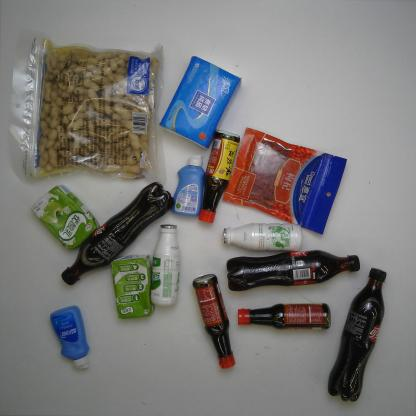Dried Food: (7, 28, 177, 188)
Dried Fruit: (219, 120, 349, 237)
Drink: (59, 180, 181, 294), (325, 264, 388, 403), (221, 242, 364, 293)
Milk: (27, 179, 102, 250), (105, 245, 158, 324), (218, 217, 308, 254), (148, 223, 186, 309)
Personal Hygiene: (50, 302, 96, 374), (169, 153, 212, 220)
Seasoner: (194, 128, 244, 225), (191, 272, 237, 371), (231, 300, 335, 333)
Tissue: (156, 51, 245, 150)
